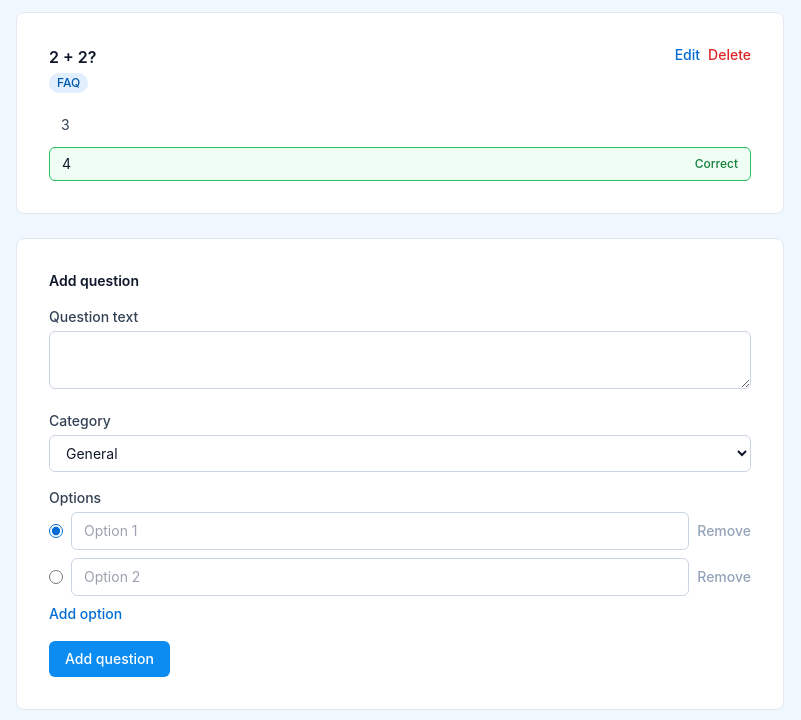
AdminQuestions › should_show_server_error_as_alert_when_create_is_rejected
(page scrolled)
Type "New?" into the text box labelled "Question text".
click(400, 360); type("New?")  # box [49,331,751,389]
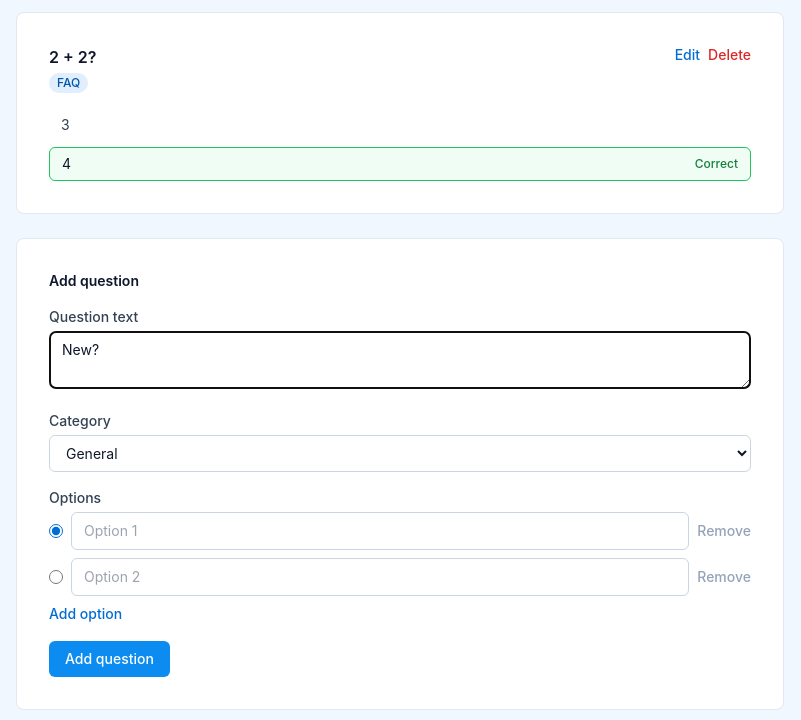
Type "A" into the field with placeholder "Option 1".
click(380, 531); type("A")  # box [71,512,689,550]
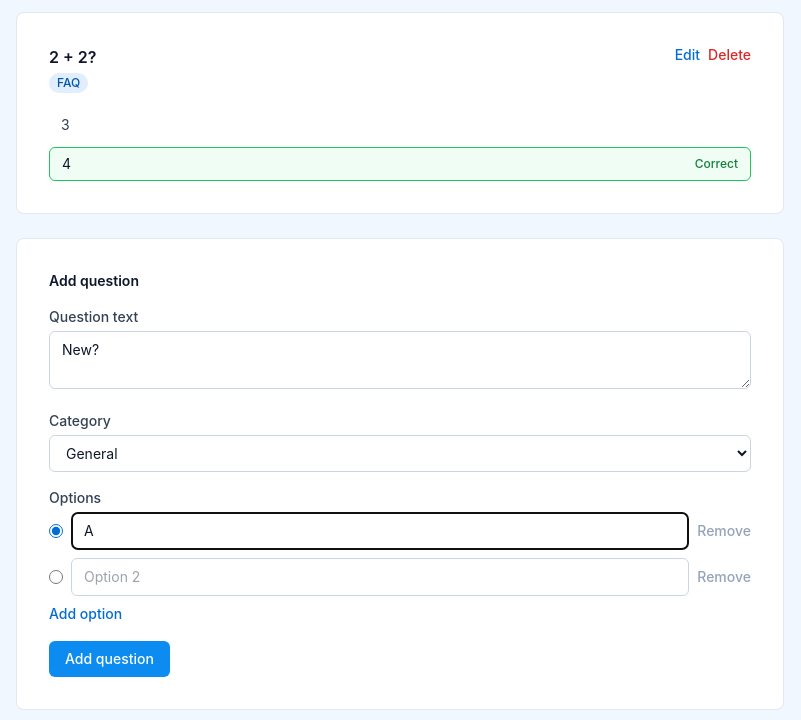
Type "B" into the field with placeholder "Option 2".
click(380, 577); type("B")  # box [71,558,689,596]
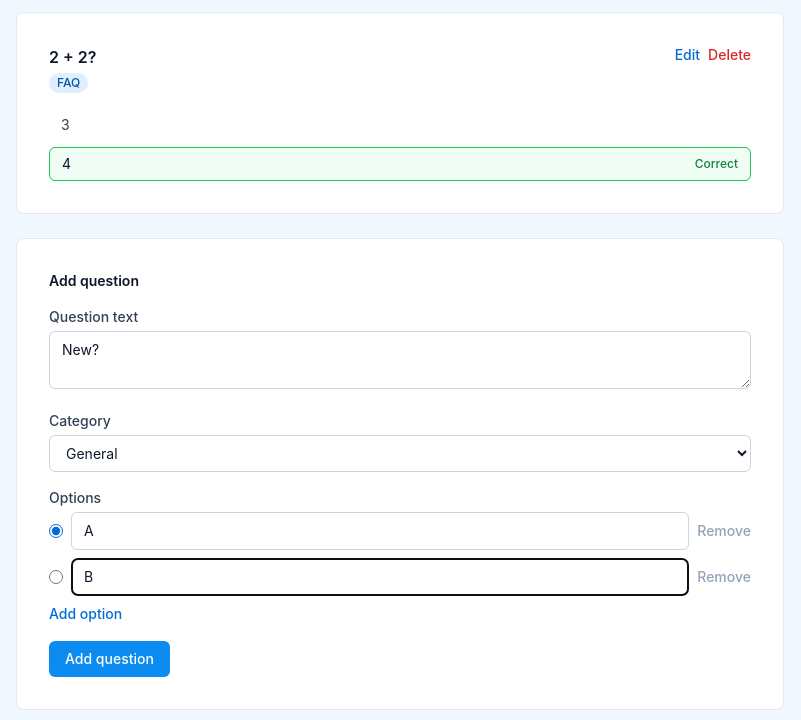
Click the button "Add question".
click(109, 659)  # box [49,641,170,677]
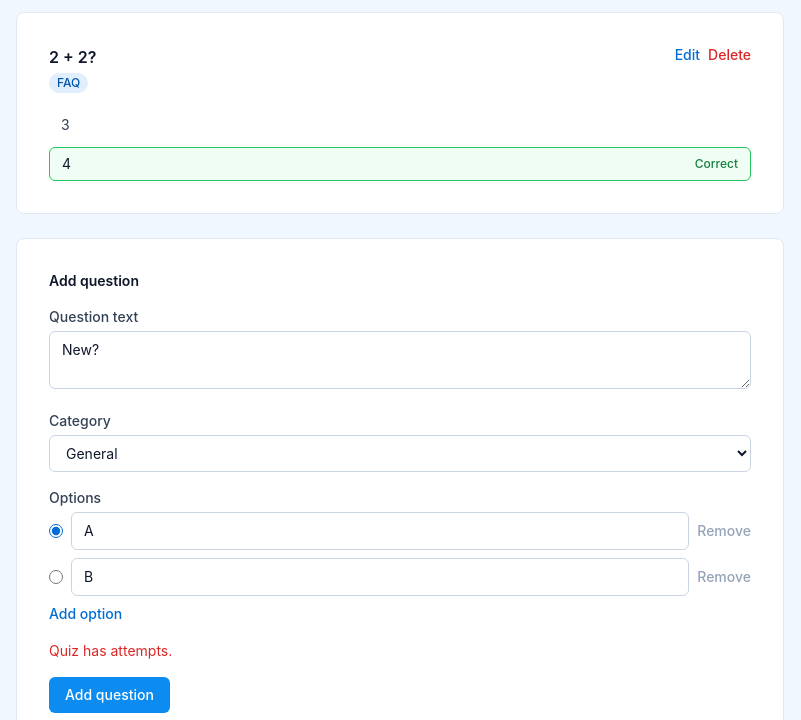
expect the message reads "Quiz has attempts.": met, box [49,642,172,659]
